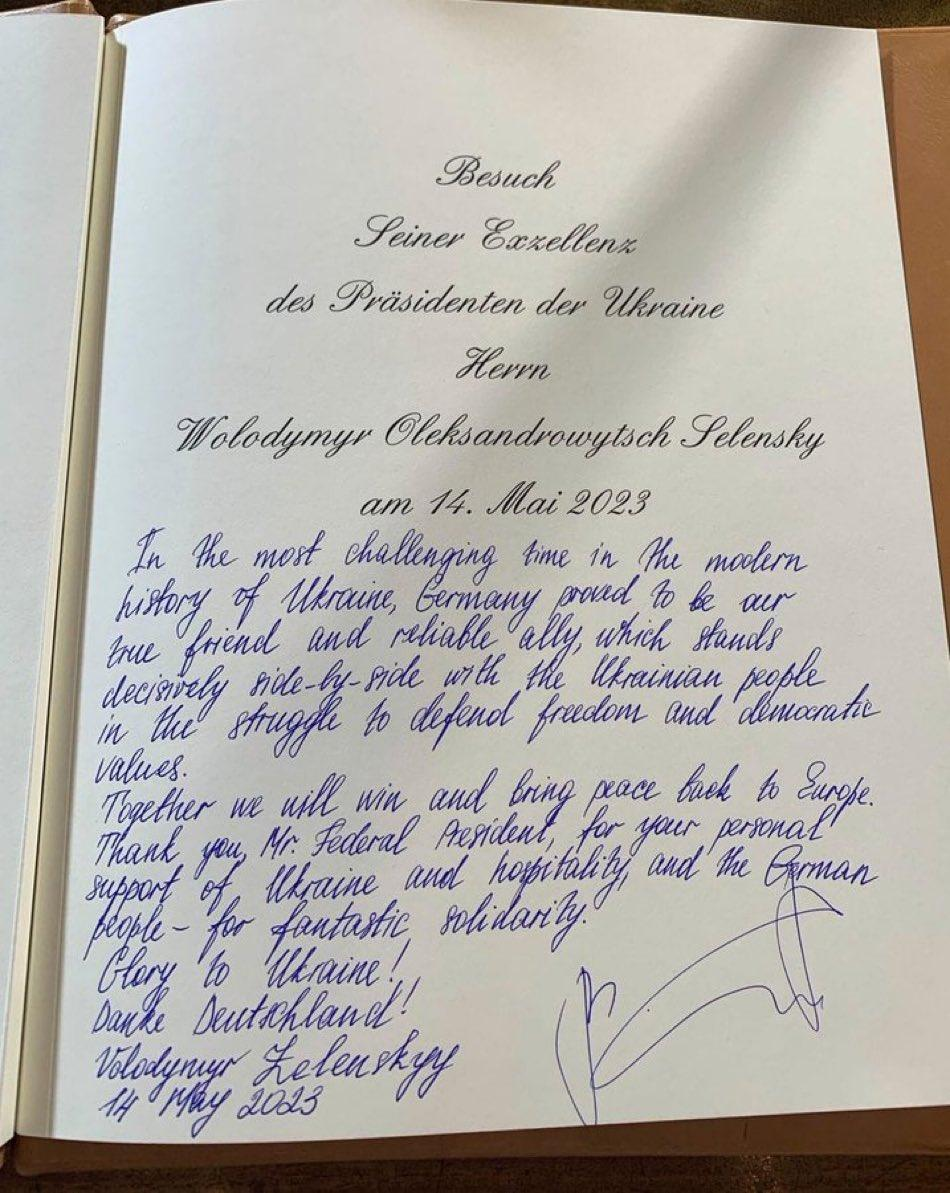text: (552, 860, 844, 1130), (94, 679, 884, 762), (91, 800, 838, 883), (83, 840, 882, 917), (99, 643, 829, 726), (99, 757, 877, 831), (112, 570, 800, 642), (103, 613, 786, 682), (123, 523, 812, 589), (77, 887, 592, 968), (172, 408, 829, 463), (92, 1026, 462, 1106), (92, 934, 413, 1013), (89, 972, 423, 1041), (261, 276, 727, 323), (99, 1078, 326, 1138), (352, 211, 640, 257), (357, 478, 653, 519), (433, 152, 563, 193), (92, 746, 189, 788), (452, 343, 553, 383)
